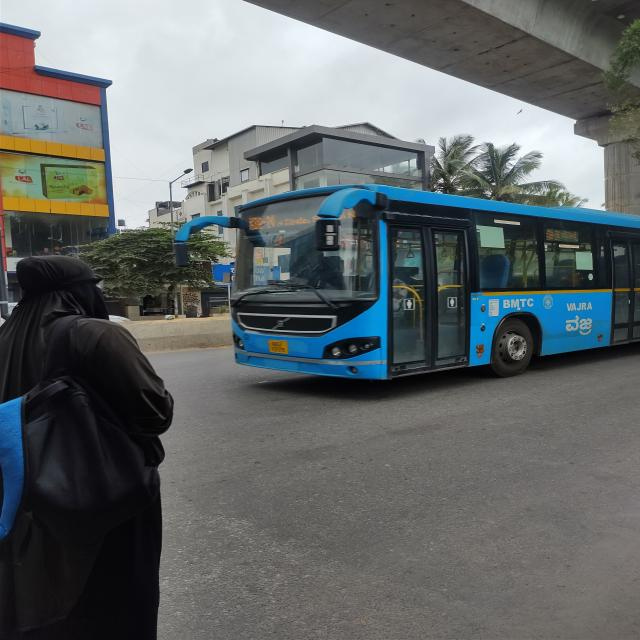bus: (170, 177, 640, 400)
display: (249, 203, 367, 229), (542, 225, 590, 245)
dnumber: (250, 214, 276, 229)
